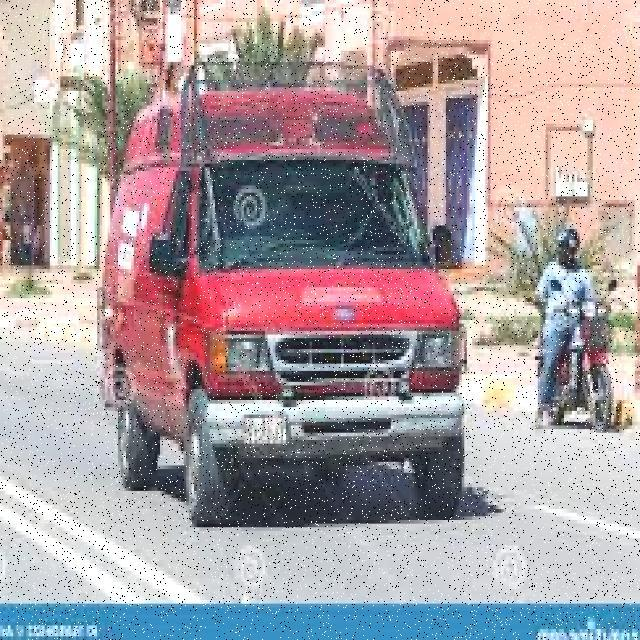ambulance: (92, 54, 471, 522)
